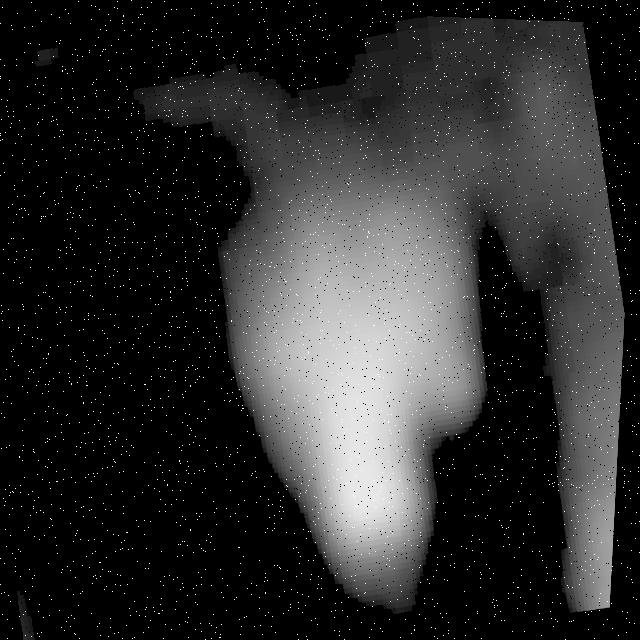person: (224, 127, 542, 629), (453, 199, 634, 621)
